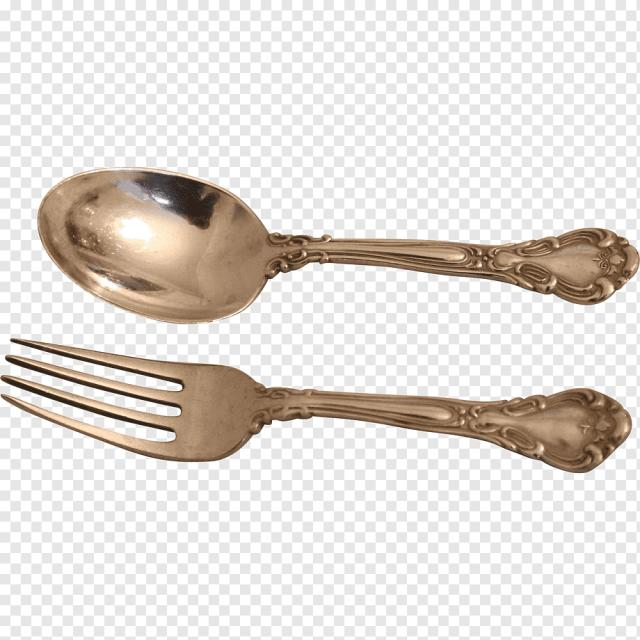Garpu: (7, 308, 636, 504)
Sendok: (26, 151, 638, 336)
